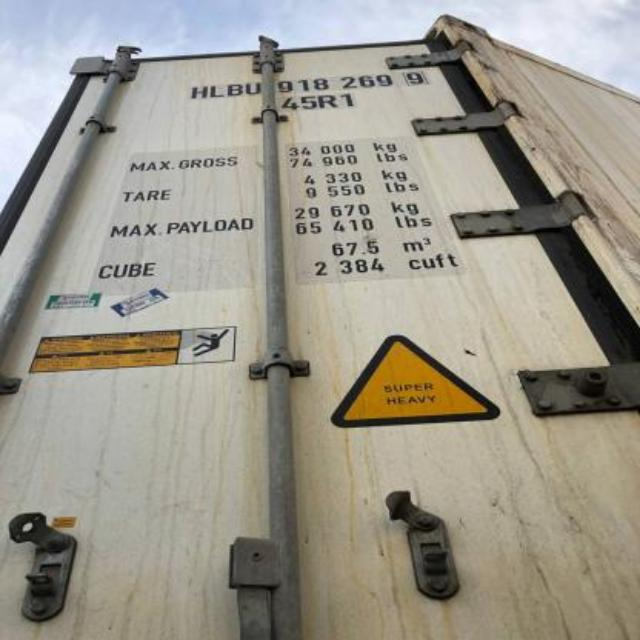1: (296, 73, 312, 93)
2: (339, 72, 357, 88)
6: (358, 68, 376, 92)
8: (313, 73, 331, 94)
9: (402, 65, 428, 89), (376, 68, 394, 92), (278, 75, 294, 95)
B: (226, 76, 242, 102)
H: (191, 80, 207, 104)
L: (209, 78, 225, 102)
U: (245, 74, 261, 104)
